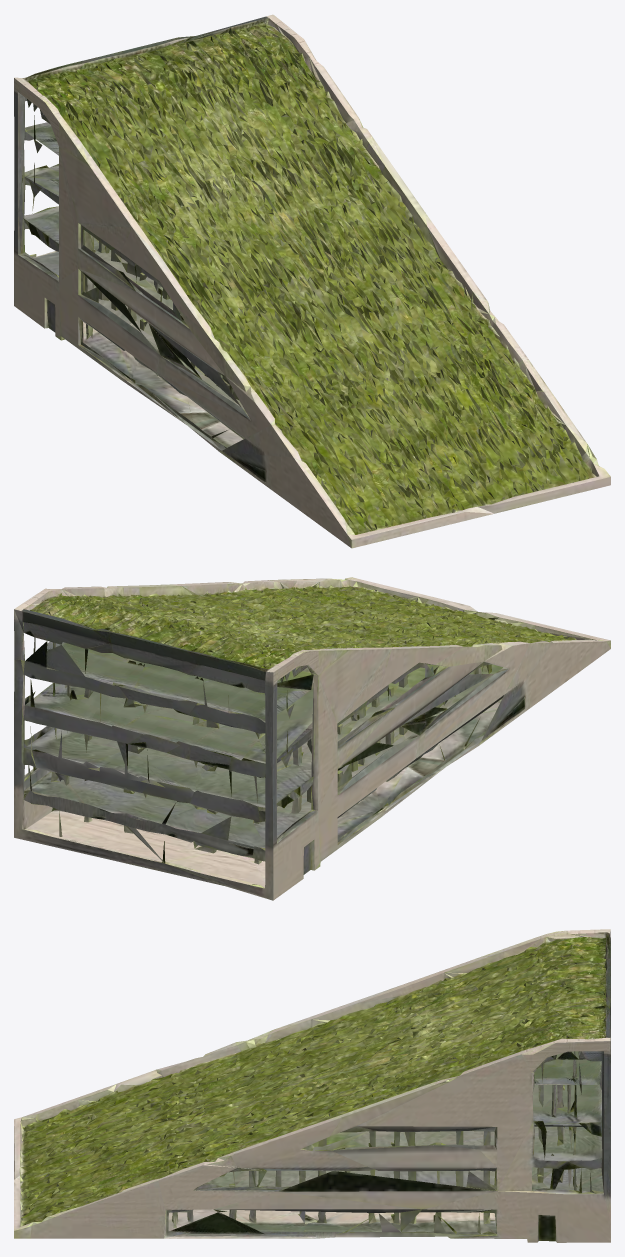
The model's file is ncic.glb.
3 views of the same model, one above another, from view 1: azimuth 30°, elevation 25°; view 2: azimuth 150°, elevation 25°; view 3: azimuth 270°, elevation 25° (orthographic). The views are drawn at different scales.
Size of the model in its own units: 0.8422 by 0.7098 by 1.9.
Materials: 1 (1 with a texture image).
